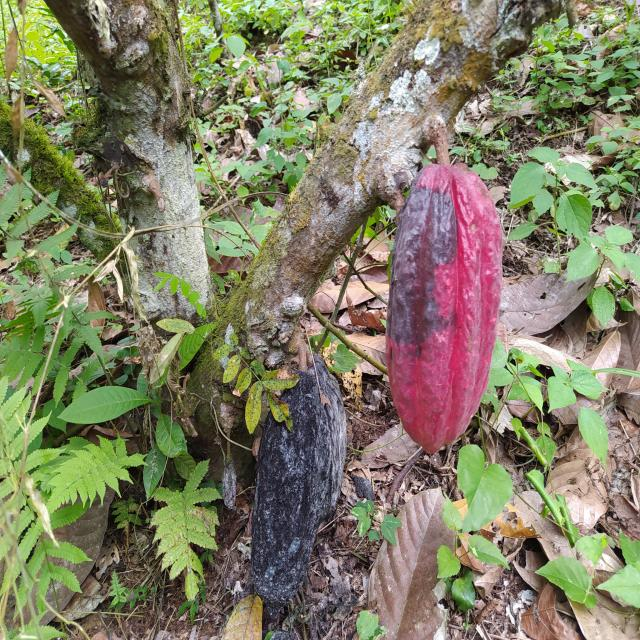Fitoftora: (387, 160, 508, 455), (252, 372, 352, 600)
